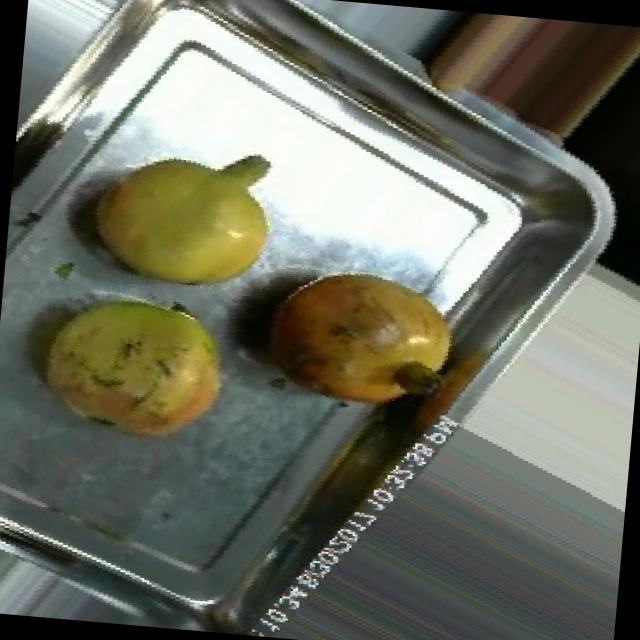fruit: (5, 253, 254, 470), (229, 235, 482, 443), (61, 116, 302, 315)
